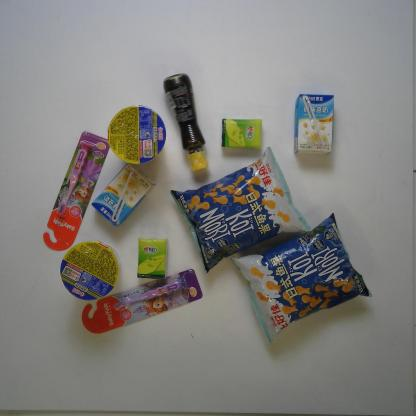Instant Noodles: (104, 100, 171, 168), (57, 241, 124, 304)
Milk: (90, 162, 156, 229), (292, 91, 338, 157)
Personal Hygiene: (80, 269, 206, 335), (42, 129, 109, 253)
Puffed Food: (226, 211, 376, 344), (167, 146, 311, 276)
Seasoner: (159, 73, 212, 174)
Tissue: (221, 110, 265, 152), (133, 235, 169, 282)
